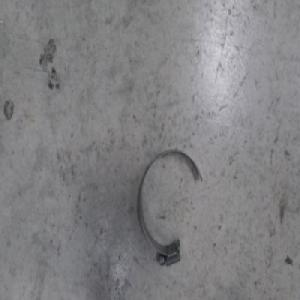AdjustableClamp: (137, 148, 202, 267)
